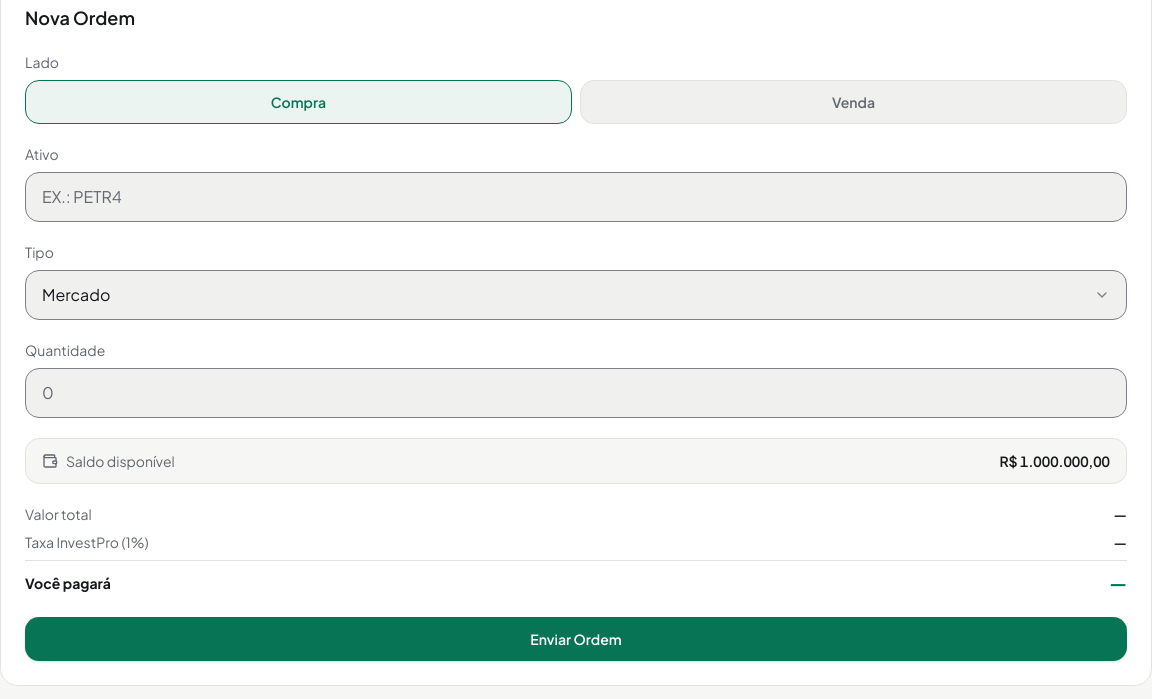
Scenario: NewOrderForm › compra de cripto por valor em R$ › sem valor, marca o campo e não envia
Type "BTC" into the dropdown with placeholder "ex.: PETR4" at coordinates (576, 197), box [25,172,1127,222]
(page scrolled)
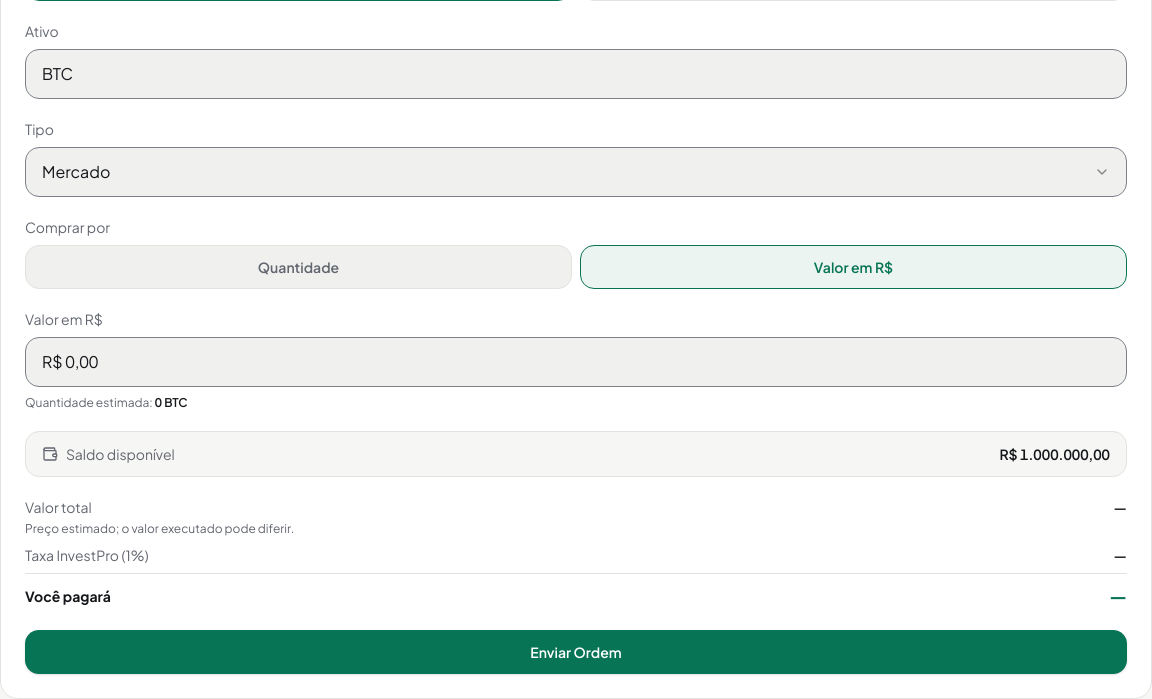
Click the button "Enviar Ordem" at coordinates (576, 652), box [25,630,1127,674]
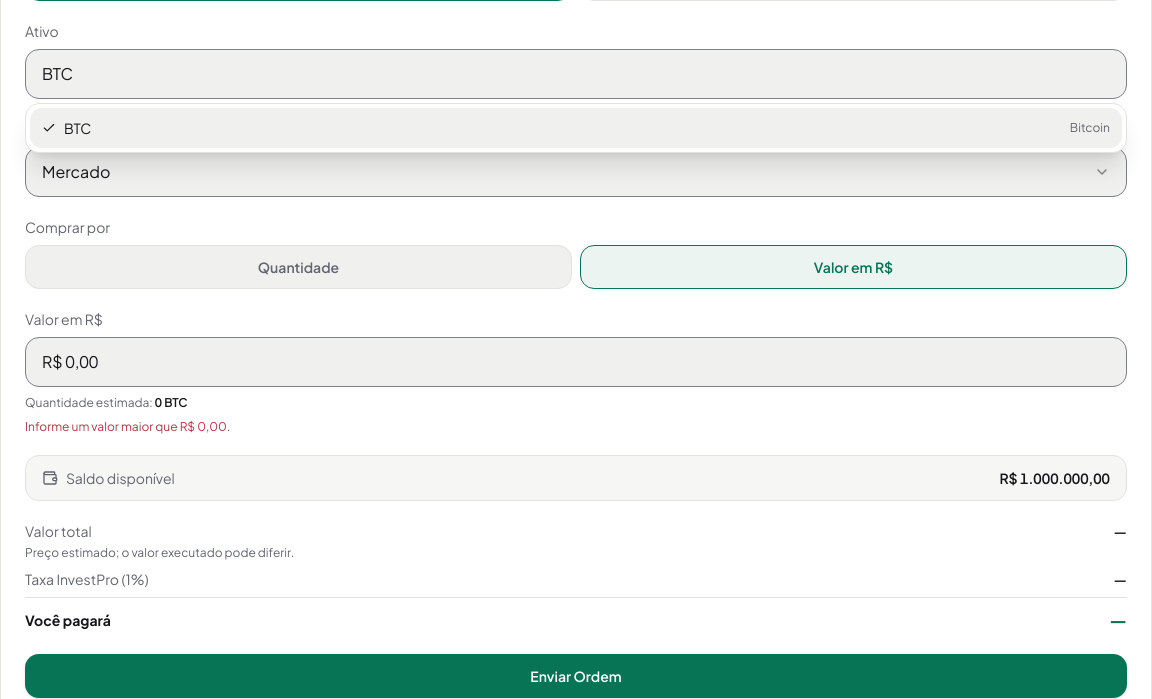
Now the text "Informe um valor maior que R$ 0,00." is shown, box [25,419,230,434]
